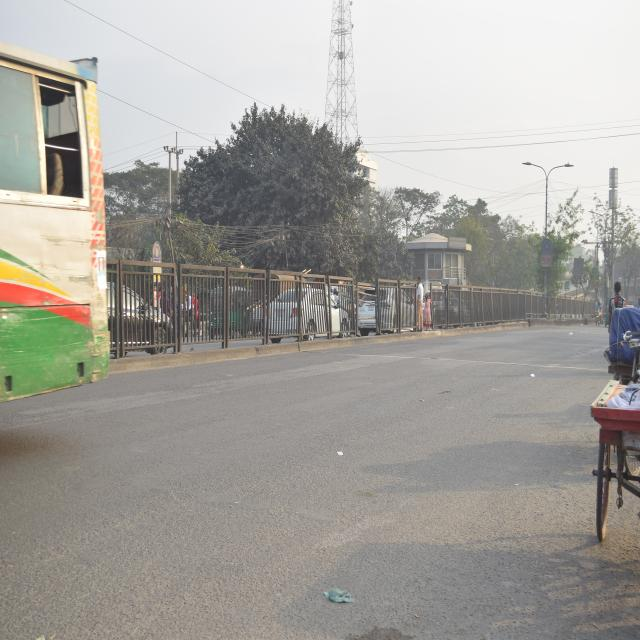bus: (0, 16, 115, 430)
